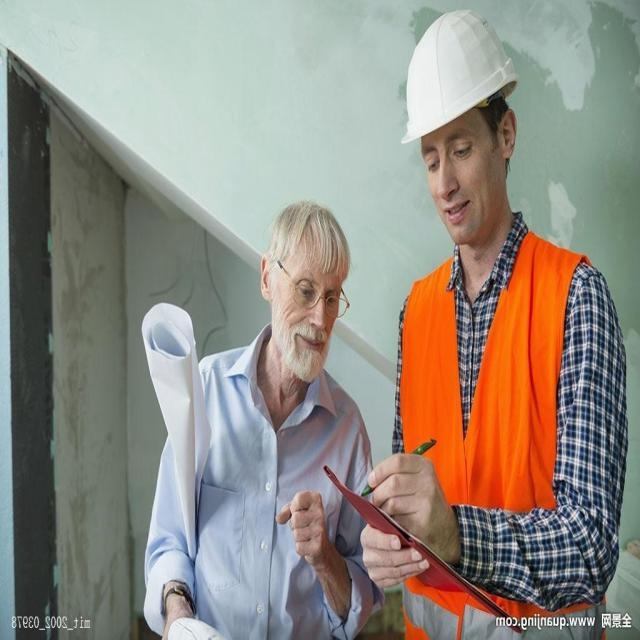Con_Chaleco: (396, 239, 596, 636)
Sin_Casco_Mascarrilla: (251, 203, 350, 380)
